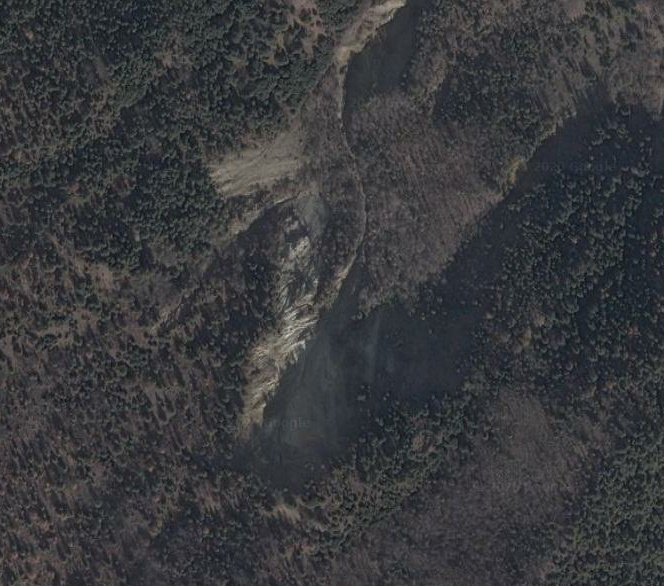slope: (230, 215, 326, 438), (210, 121, 305, 210)
